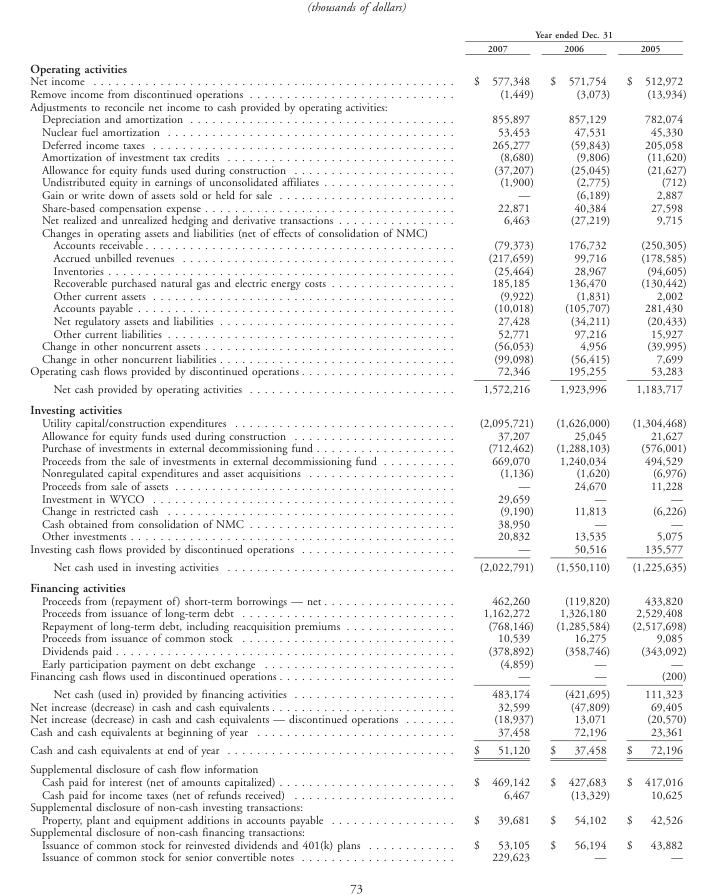table: (29, 28, 685, 863)
table column: (29, 28, 435, 863), (435, 28, 541, 863), (541, 28, 617, 863), (617, 28, 685, 863)
table column header: (29, 28, 685, 57)
table projected row header: (29, 57, 685, 74), (29, 399, 685, 416), (29, 576, 685, 593), (29, 759, 685, 775), (29, 800, 685, 813), (29, 825, 685, 838), (29, 100, 685, 112), (29, 226, 685, 238)
table row: (29, 379, 685, 399), (29, 557, 685, 576), (29, 740, 685, 759), (29, 57, 685, 74), (29, 399, 685, 416), (29, 576, 685, 593), (29, 41, 685, 57), (29, 759, 685, 775), (29, 364, 685, 379), (29, 542, 685, 557), (29, 669, 685, 684), (29, 684, 685, 699), (29, 725, 685, 740), (29, 28, 685, 41), (29, 74, 685, 87), (29, 87, 685, 100), (29, 112, 685, 125), (29, 137, 685, 150), (29, 150, 685, 163), (29, 175, 685, 188), (29, 200, 685, 213), (29, 213, 685, 226), (29, 238, 685, 251), (29, 263, 685, 276), (29, 276, 685, 289), (29, 301, 685, 314), (29, 326, 685, 339), (29, 339, 685, 352), (29, 428, 685, 441), (29, 441, 685, 454), (29, 466, 685, 479), (29, 491, 685, 504), (29, 504, 685, 517), (29, 529, 685, 542), (29, 593, 685, 606), (29, 606, 685, 619), (29, 631, 685, 644), (29, 656, 685, 669), (29, 699, 685, 712), (29, 712, 685, 725), (29, 787, 685, 800), (29, 800, 685, 813), (29, 825, 685, 838), (29, 850, 685, 863), (29, 100, 685, 112), (29, 125, 685, 137), (29, 163, 685, 175), (29, 188, 685, 200), (29, 226, 685, 238), (29, 251, 685, 263), (29, 289, 685, 301), (29, 314, 685, 326), (29, 352, 685, 364), (29, 416, 685, 428), (29, 454, 685, 466), (29, 479, 685, 491), (29, 517, 685, 529), (29, 619, 685, 631), (29, 644, 685, 656), (29, 775, 685, 787), (29, 813, 685, 825), (29, 838, 685, 850)
table spanning cell: (435, 28, 685, 41)
